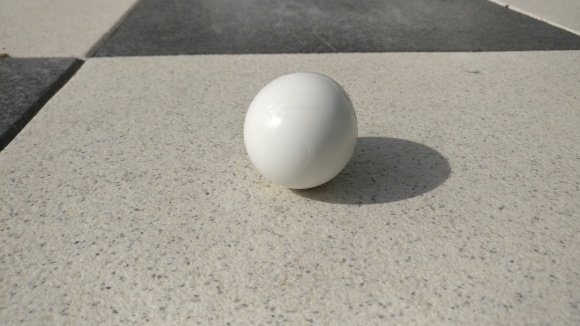egg: (242, 71, 359, 190)
